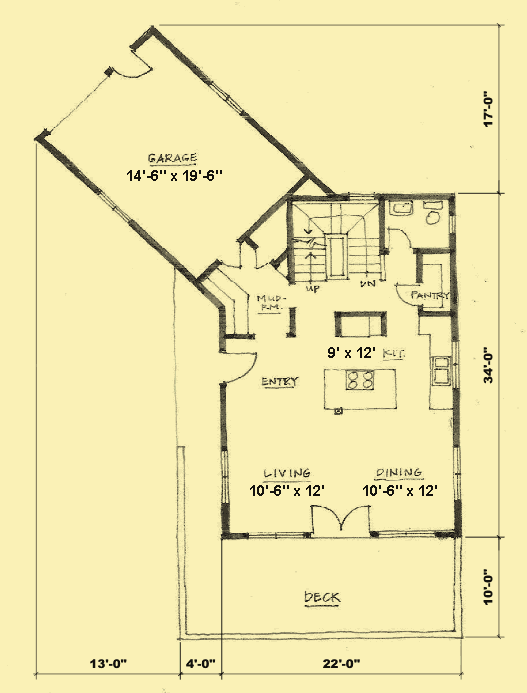door: (309, 501, 373, 540), (218, 347, 257, 385), (112, 47, 153, 82), (210, 241, 243, 270), (386, 224, 419, 253)
kitchen_bar: (322, 365, 399, 415)
stairs: (290, 198, 384, 282)
